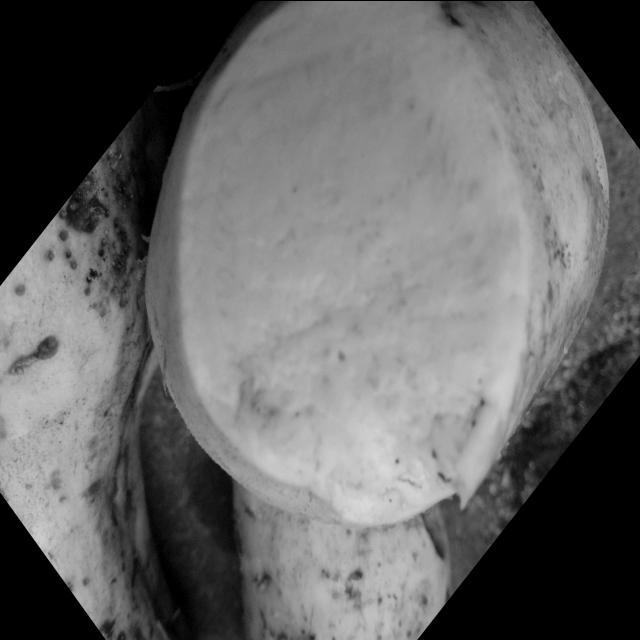Healthy Sweet Potato: (146, 2, 529, 525)
